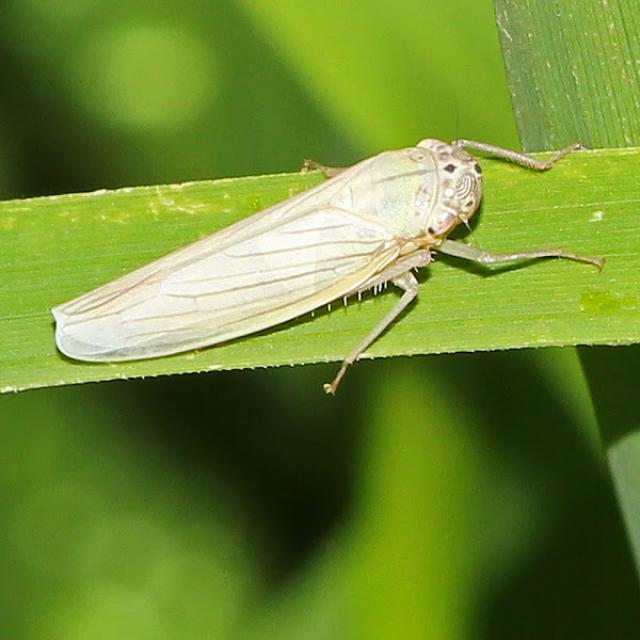Yechan: (50, 118, 549, 395)
